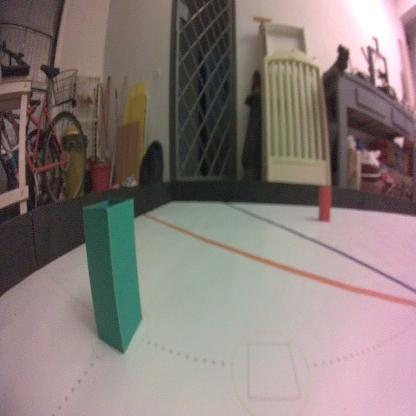green: (80, 190, 146, 354)
red: (317, 187, 333, 223)
